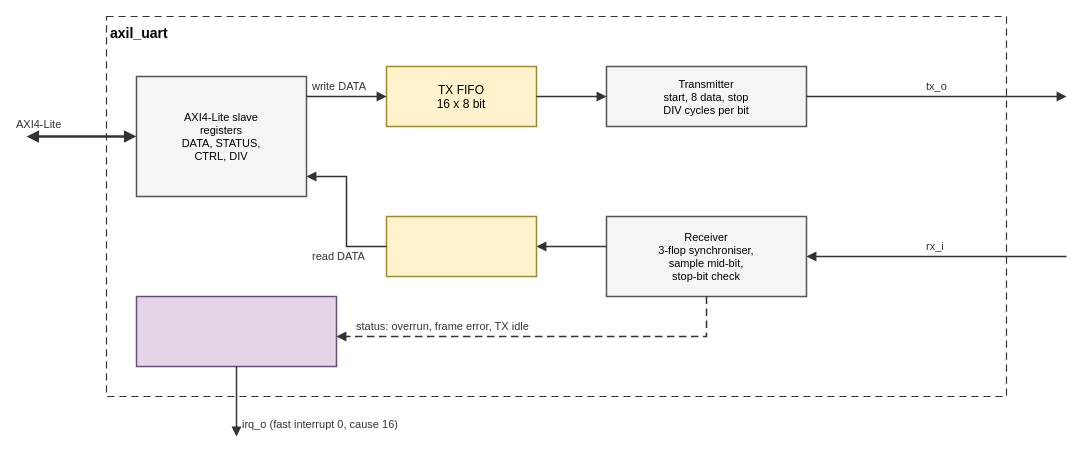
Some shapes in this 1083 by 451 pixel diagram are drawn without their labels. Each missing label, with the box of its shape:
Interrupt RX not empty & CTRL[0] or TX empty & CTRL[1]: (135, 295, 337, 367)
RX FIFO 16 x 8 bit: (385, 215, 537, 277)
